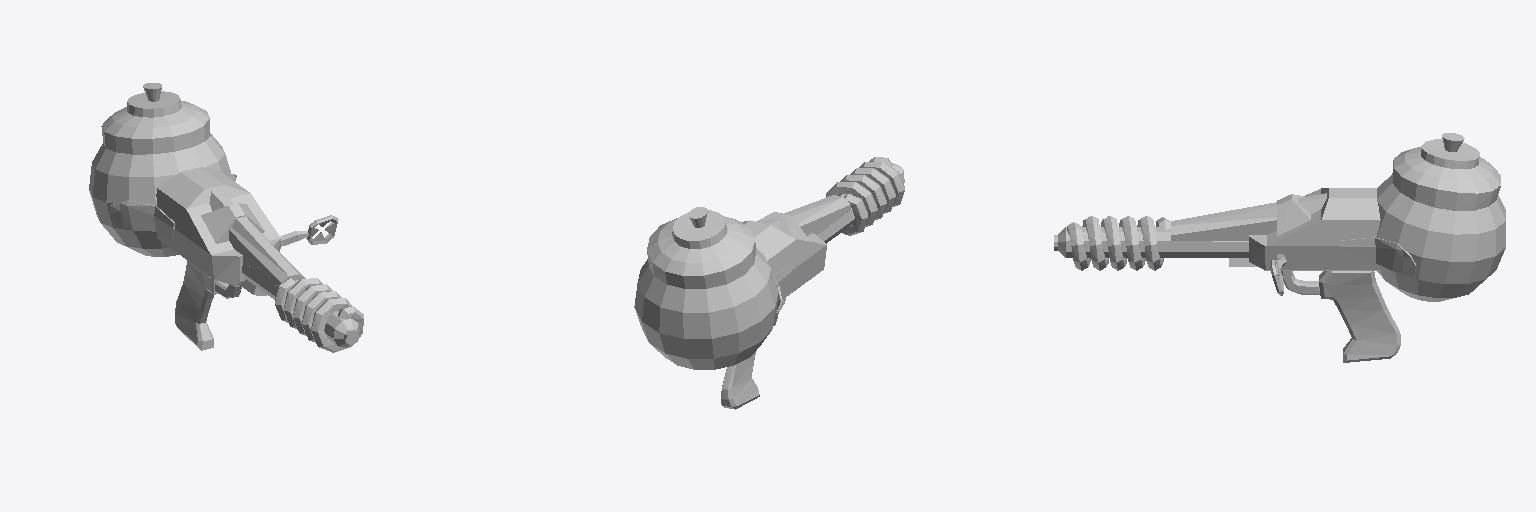
The model's file is GumballLauncher_01.obj.
The picture shows the model from 3 angles: view 1: azimuth 30°, elevation 25°; view 2: azimuth 150°, elevation 25°; view 3: azimuth 270°, elevation 25°; orthographic projection.
Visible parts, largest first — view 1: Gumball_Glass, Gumball_Body_Top, Gumball_Glass_Top, Gumball_Spiral, Gumball_Barell_Guard, Gumball_Grip, Gumball_Body_Bot, Gumball_Tape, Gumball_Barell, Gumball_Sight; view 2: Gumball_Glass, Gumball_Glass_Top, Gumball_Spiral, Gumball_Body_Top, Gumball_Barell_Guard, Gumball_Grip, Gumball_Body_Bot, Gumball_Barell; view 3: Gumball_Glass, Gumball_Glass_Top, Gumball_Body_Top, Gumball_Grip, Gumball_Spiral, Gumball_Barell_Guard, Gumball_Barell, Gumball_Body_Bot, Gumball_Tape, Gumball_Trigger.
Part boxes in pixels (x1,y1,x2,y2): Gumball_Glass: (89, 134, 231, 256); Gumball_Body_Top: (156, 167, 280, 254); Gumball_Glass_Top: (101, 83, 210, 154); Gumball_Spiral: (275, 278, 363, 352); Gumball_Barell_Guard: (209, 189, 305, 286); Gumball_Grip: (175, 261, 218, 350); Gumball_Body_Bot: (157, 229, 281, 285); Gumball_Tape: (110, 174, 236, 238); Gumball_Barell: (239, 262, 359, 347); Gumball_Sight: (306, 215, 338, 244); Gumball_Glass: (634, 248, 778, 369); Gumball_Glass_Top: (647, 207, 755, 288); Gumball_Spiral: (826, 157, 904, 235); Gumball_Body_Top: (741, 212, 825, 274); Gumball_Barell_Guard: (759, 195, 850, 235); Gumball_Grip: (721, 350, 759, 409); Gumball_Body_Bot: (781, 233, 826, 299); Gumball_Barell: (817, 163, 904, 243); Gumball_Glass: (1376, 175, 1505, 301); Gumball_Glass_Top: (1392, 133, 1500, 210); Gumball_Body_Top: (1267, 188, 1380, 245); Gumball_Grip: (1319, 271, 1400, 362); Gumball_Spiral: (1067, 216, 1170, 270); Gumball_Barell_Guard: (1171, 193, 1326, 240); Gumball_Barell: (1054, 227, 1256, 266); Gumball_Body_Bot: (1249, 235, 1379, 270); Gumball_Tape: (1339, 237, 1416, 278); Gumball_Trigger: (1281, 271, 1319, 294).
Bounding box in the file's own units: 41.17 × 55.33 × 101.